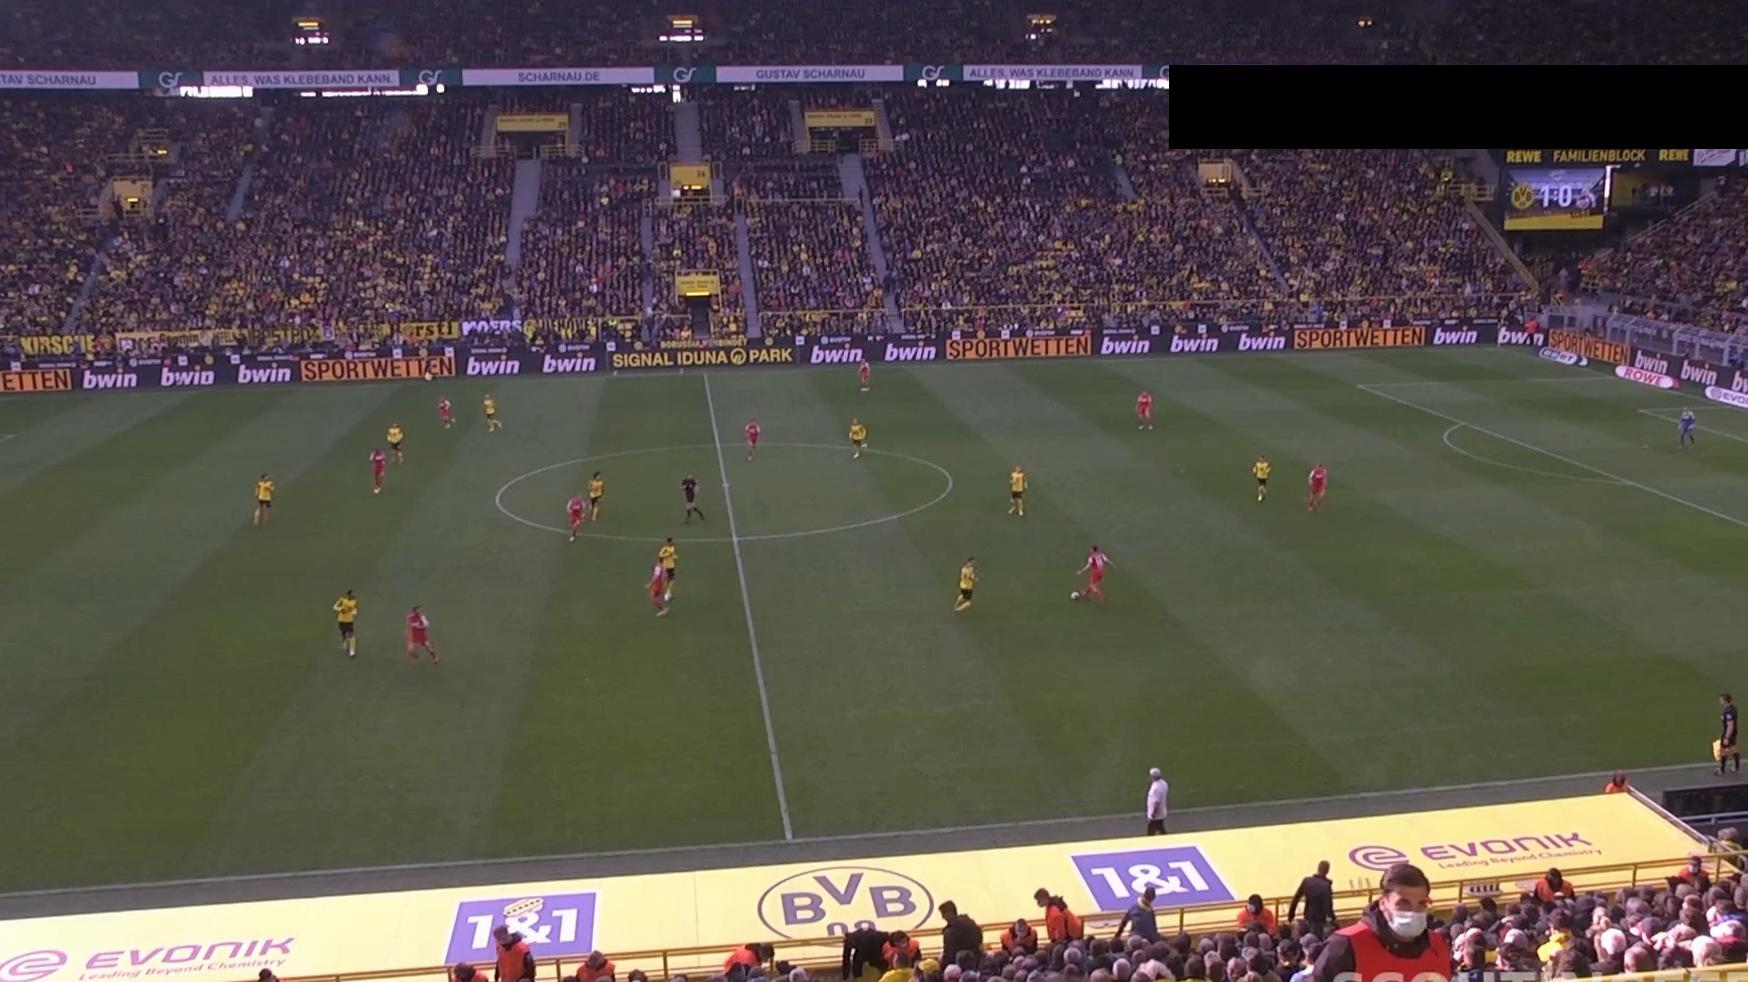ball: (1070, 589, 1080, 601)
